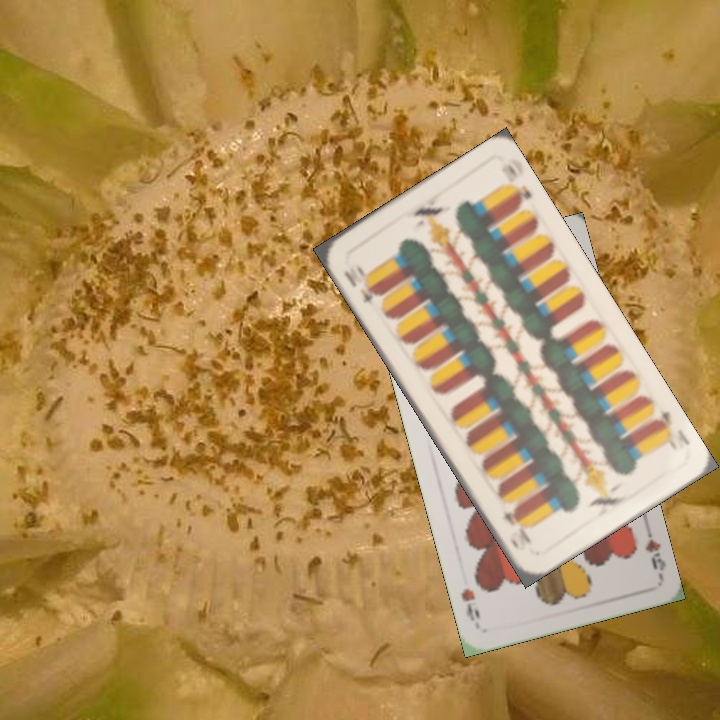E10: (339, 266, 382, 310), (649, 405, 693, 448)
H9: (640, 520, 668, 573)
